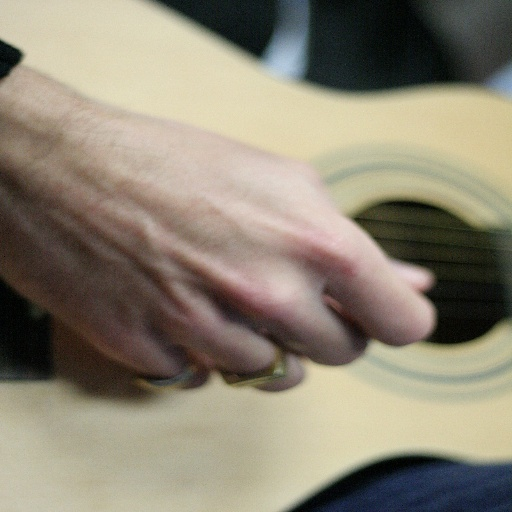hand: (0, 106, 435, 391)
